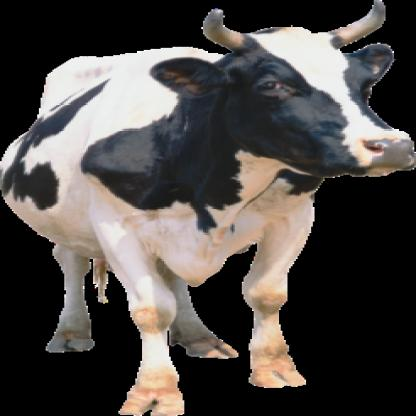lower: (370, 171, 394, 175)
mouth: (320, 124, 416, 180)
upper: (379, 150, 400, 158)
